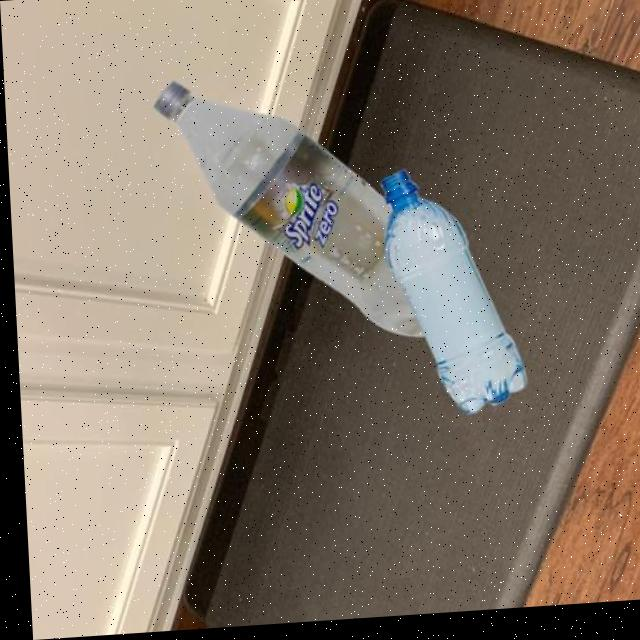bottle: (149, 65, 524, 439), (374, 167, 524, 427)
